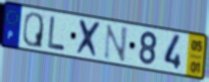4: (162, 33, 185, 74)
8: (138, 30, 159, 67)
L: (47, 14, 67, 52)
N: (102, 23, 129, 64)
Q: (22, 11, 45, 50)
X: (75, 18, 104, 60)
